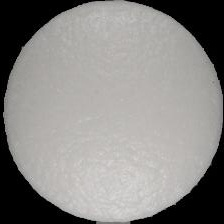16590-893: (0, 0, 224, 224)
